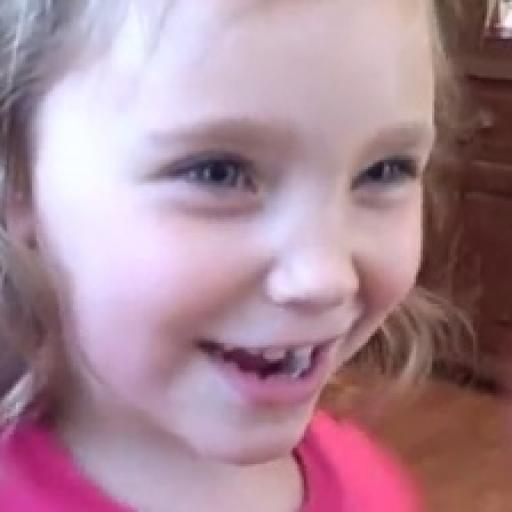Autism: (0, 2, 512, 512)
